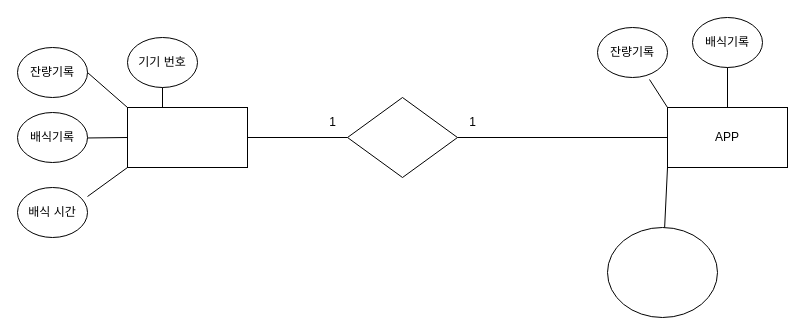
The diagram is 805 pixels wide and 335 high, and some of its shapes have lost their labels. Each missing label, with the centre of its shape:
feeder: the point at 187,137
설정된 배식 시간: the point at 662,272
전송/요청한다: the point at 402,137
